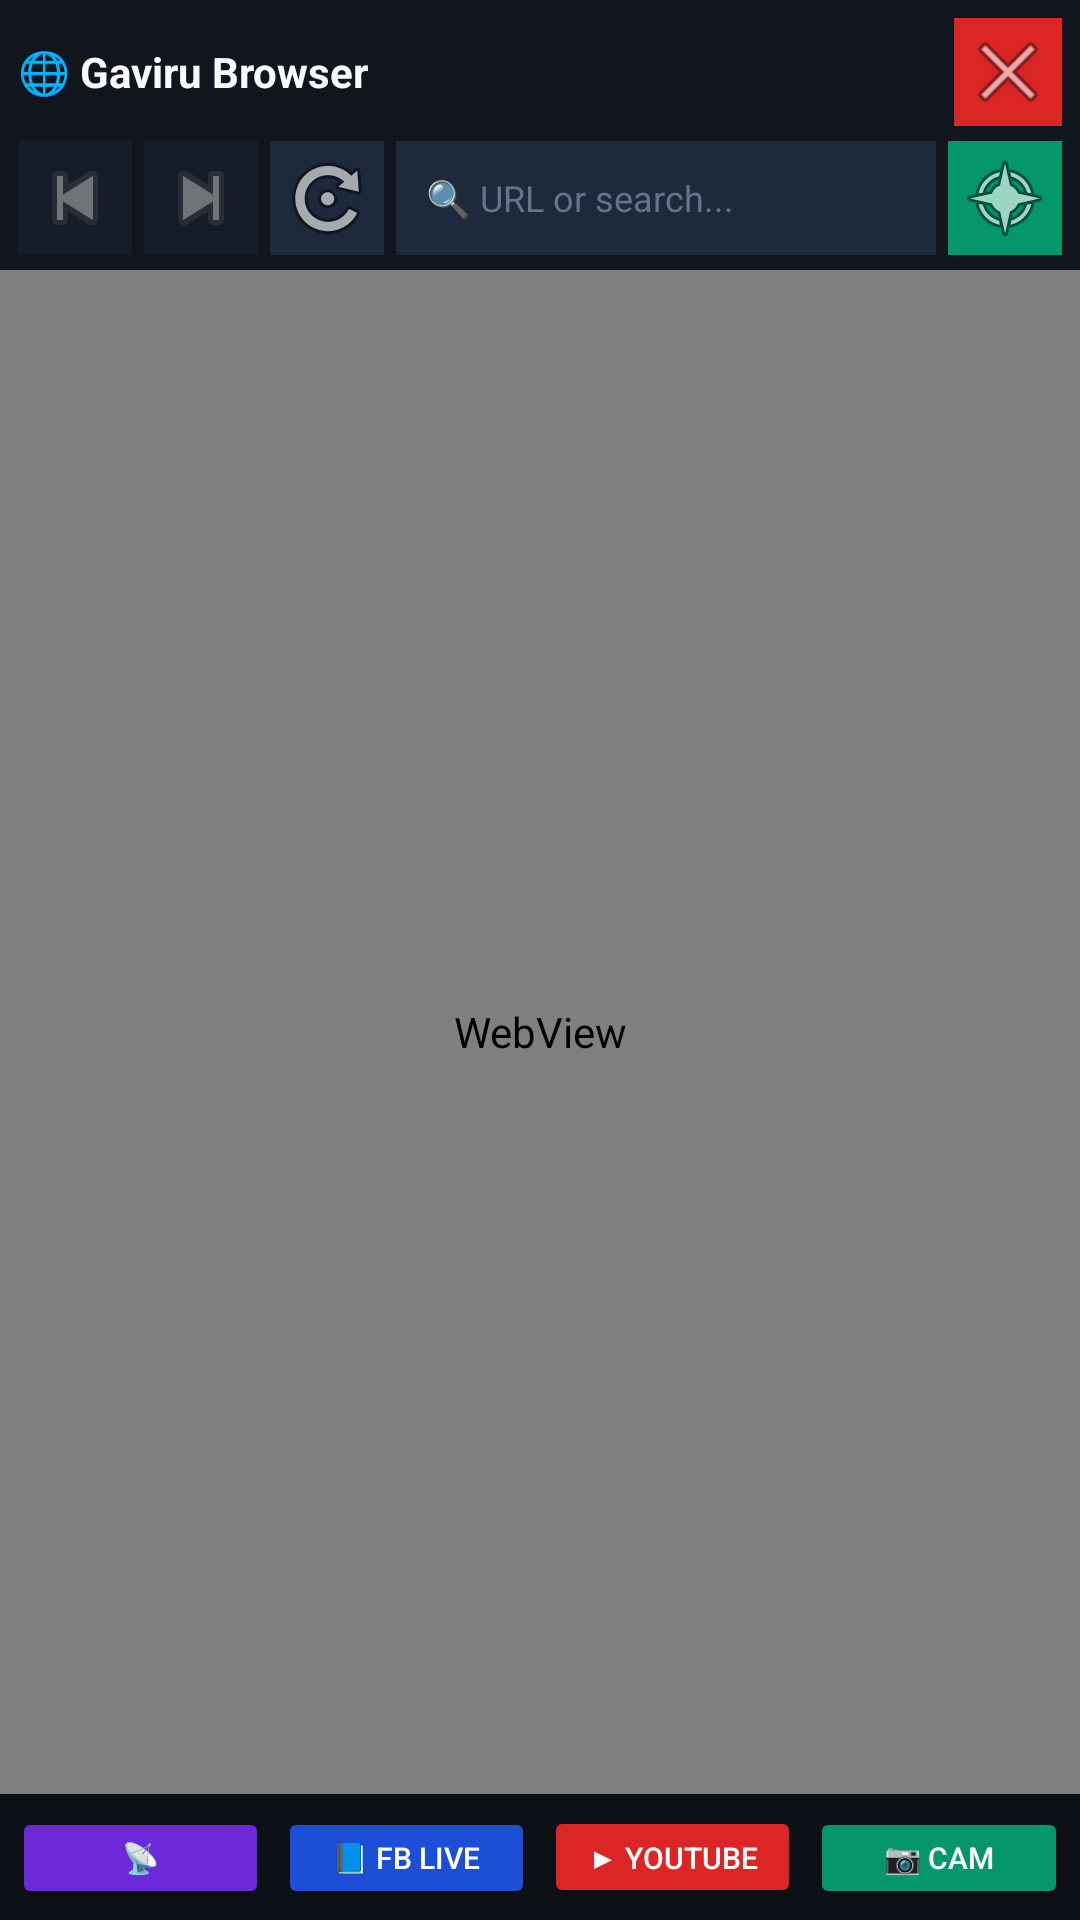

Icons on this 1080px×1920px Android screen, each with the point to tap as point (x, y):
Back: point (75, 198)
Close: point (1008, 72)
Forward: point (201, 198)
Refresh: point (327, 198)
